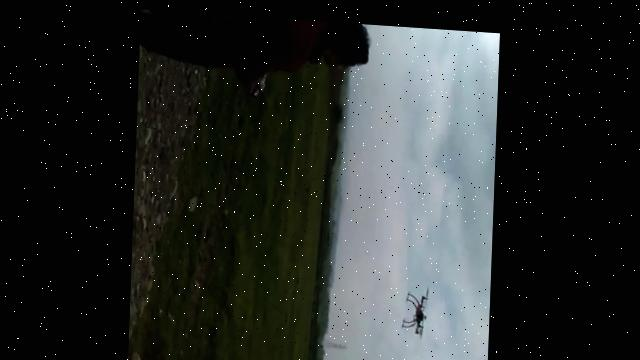drone: (404, 278, 434, 335)
